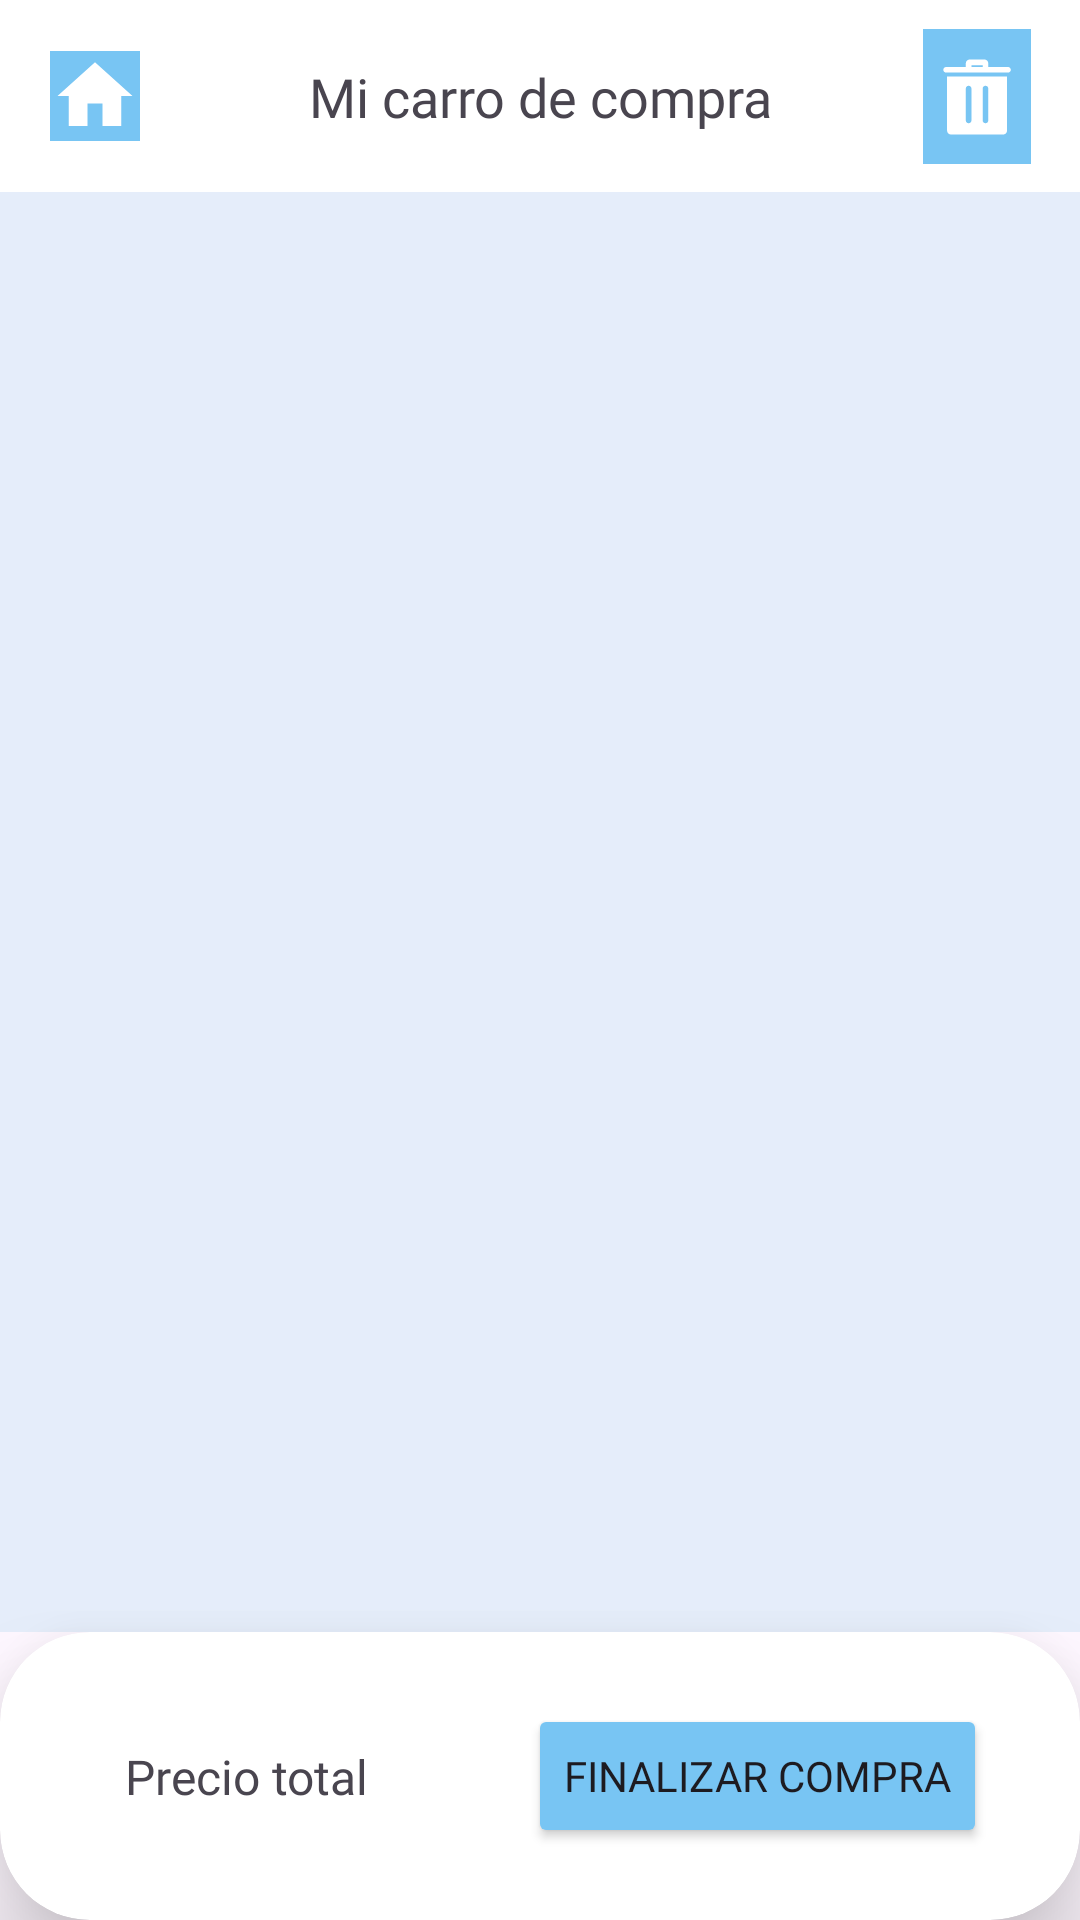

Locate icon controls on the screen. Image size 1080px x 1920px, boxes as (x1, y1, x2, y2).
home: (50, 51, 140, 141)
trashcan: (923, 29, 1031, 164)
